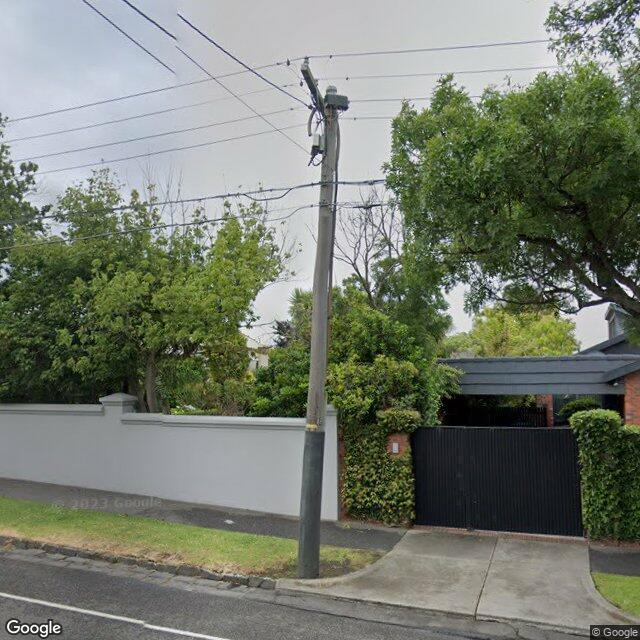crossarm: (302, 63, 324, 118)
timber-pole: (298, 86, 338, 580)
